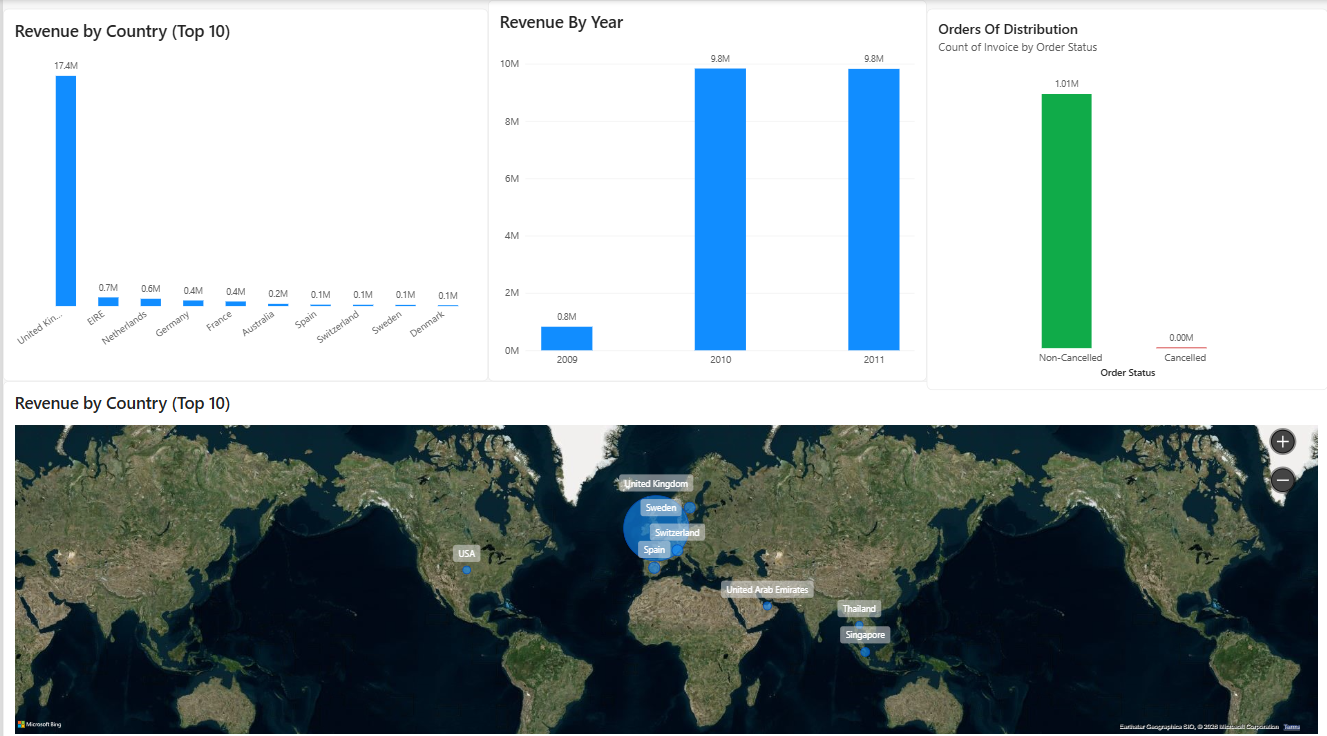

This screenshot's page, from the dashboard's own definition file:
{"tool":"powerbi","page":{"name":"Page 2","canvas":[1920,1080],"ordinal":1},"visuals":[{"type":"map","title":"Revenue by Country (Top 10)","fields":{"Category":["ecommerce_sales_db ecommerce_sales_staging.Country"],"Size":["Sum(ecommerce_sales_db ecommerce_sales_staging.Revenue)"]},"box":[0,551.9,1920.1,528.4],"z":0},{"type":"clusteredColumnChart","title":"Orders Of Distribution","fields":{"Category":["ecommerce_sales_db ecommerce_sales_staging.Order Status"],"Y":["CountNonNull(ecommerce_sales_db ecommerce_sales_staging.Invoice)"]},"box":[1337.3,12.7,561,551.9],"z":1000},{"type":"columnChart","title":"Revenue By Year","fields":{"Category":["ecommerce_sales_db ecommerce_sales_staging.InvoiceDate.Variation.Date Hierarchy.Year"],"Y":["Sum(ecommerce_sales_db ecommerce_sales_staging.Revenue)"]},"box":[702.1,0,635.2,551.9],"z":2000},{"type":"clusteredColumnChart","title":"Revenue by Country (Top 10)","fields":{"Category":["ecommerce_sales_db ecommerce_sales_staging.Country"],"Y":["Sum(ecommerce_sales_db ecommerce_sales_staging.Revenue)"]},"box":[0,12.7,702.1,515.8],"z":3000}]}

Visuals, with their boxes in screenshot pixels (x1, y1, x2, y2), scaled from the page's 1920x1080 canvas onto the 1327x736 screenshot:
"Revenue by Country (Top 10)" map: (0, 376, 1326, 735)
"Orders Of Distribution" clusteredColumnChart: (924, 9, 1312, 385)
"Revenue By Year" columnChart: (485, 0, 924, 376)
"Revenue by Country (Top 10)" clusteredColumnChart: (0, 9, 485, 360)
